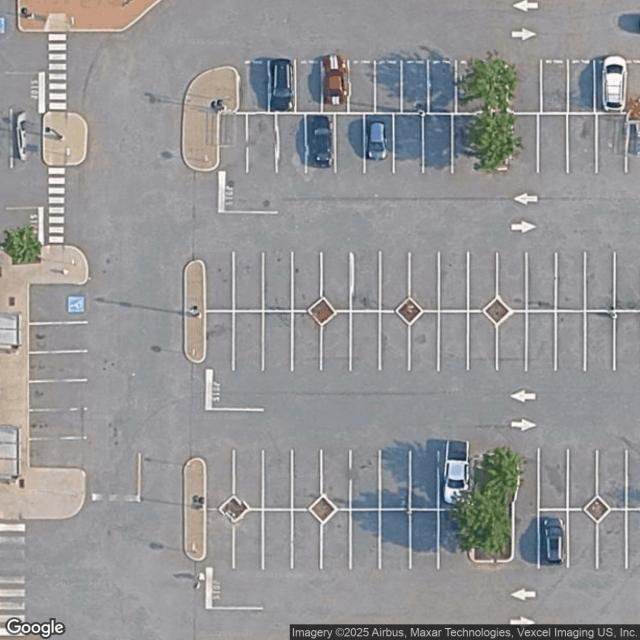car: (446, 438, 469, 506), (309, 115, 335, 168), (323, 54, 348, 104), (271, 58, 294, 112), (542, 516, 566, 566), (604, 56, 626, 109), (368, 114, 388, 161)
lot_boundary: (25, 0, 639, 639), (374, 61, 402, 114)
objects: (182, 68, 239, 173), (471, 456, 514, 561), (487, 62, 508, 171), (184, 460, 205, 561), (185, 261, 205, 361), (307, 496, 336, 524), (484, 296, 511, 324), (220, 497, 249, 522), (310, 298, 335, 326), (585, 496, 610, 523), (398, 298, 422, 324)
stall: (30, 286, 87, 323), (380, 250, 411, 311), (597, 451, 628, 511), (293, 448, 323, 509), (409, 250, 439, 311), (497, 251, 527, 312), (233, 449, 263, 510), (455, 114, 485, 174), (439, 252, 469, 312), (526, 252, 556, 312), (204, 252, 234, 312), (380, 450, 410, 510), (292, 251, 322, 311), (467, 251, 497, 311), (205, 450, 235, 510), (321, 449, 351, 509), (320, 312, 351, 370), (496, 313, 527, 371), (440, 510, 471, 568), (277, 114, 307, 173), (423, 114, 453, 173), (538, 114, 568, 173), (508, 114, 538, 173), (585, 252, 615, 311), (526, 313, 556, 372), (555, 312, 585, 371), (262, 312, 292, 371), (350, 450, 380, 509), (380, 510, 410, 569), (233, 510, 263, 569), (322, 511, 352, 570), (597, 510, 627, 569), (322, 252, 351, 313), (292, 310, 321, 371), (380, 311, 409, 372), (205, 508, 234, 569), (292, 509, 321, 570), (468, 312, 497, 373), (408, 313, 439, 370), (247, 114, 276, 174), (307, 114, 336, 174), (364, 114, 394, 172), (597, 114, 627, 172), (567, 114, 597, 172), (351, 252, 380, 312), (263, 510, 292, 570), (263, 450, 292, 510), (568, 511, 598, 569), (263, 252, 292, 311), (234, 252, 263, 311), (351, 312, 380, 371), (556, 252, 585, 311), (439, 313, 468, 372), (585, 313, 614, 372), (234, 312, 263, 371), (205, 312, 234, 371), (351, 509, 380, 568), (440, 452, 469, 511), (410, 452, 439, 511), (409, 509, 438, 568), (538, 450, 567, 509), (539, 510, 568, 569), (568, 451, 597, 510), (335, 114, 364, 172), (394, 114, 423, 172), (30, 323, 86, 352), (30, 381, 86, 410), (30, 438, 86, 467), (30, 353, 86, 382), (509, 62, 541, 112), (513, 450, 540, 509), (30, 410, 86, 438), (269, 56, 296, 114), (221, 115, 248, 173), (295, 59, 323, 113), (512, 509, 538, 567), (348, 59, 376, 112), (540, 60, 568, 113), (594, 61, 623, 112), (614, 252, 639, 311), (616, 311, 640, 372), (242, 59, 269, 113), (322, 60, 349, 113), (375, 61, 402, 114), (402, 60, 429, 113), (457, 61, 484, 114), (429, 60, 456, 113), (568, 61, 595, 112)
